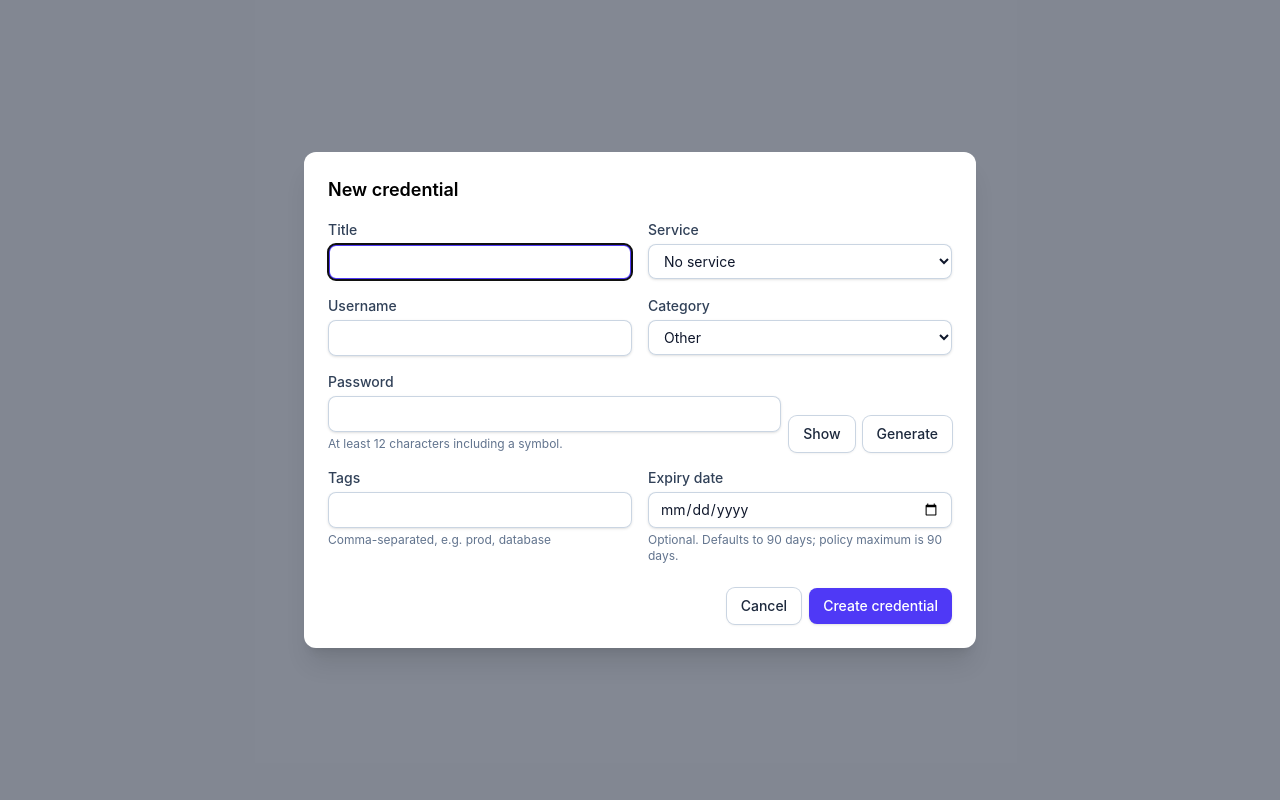
Scenario: CredentialFormModal (create) › a lockdown refusal is explained rather than shown as a generic failure
Type "Prod DB" into the field labelled "Title" at [480, 262], box [328,244,632,280]
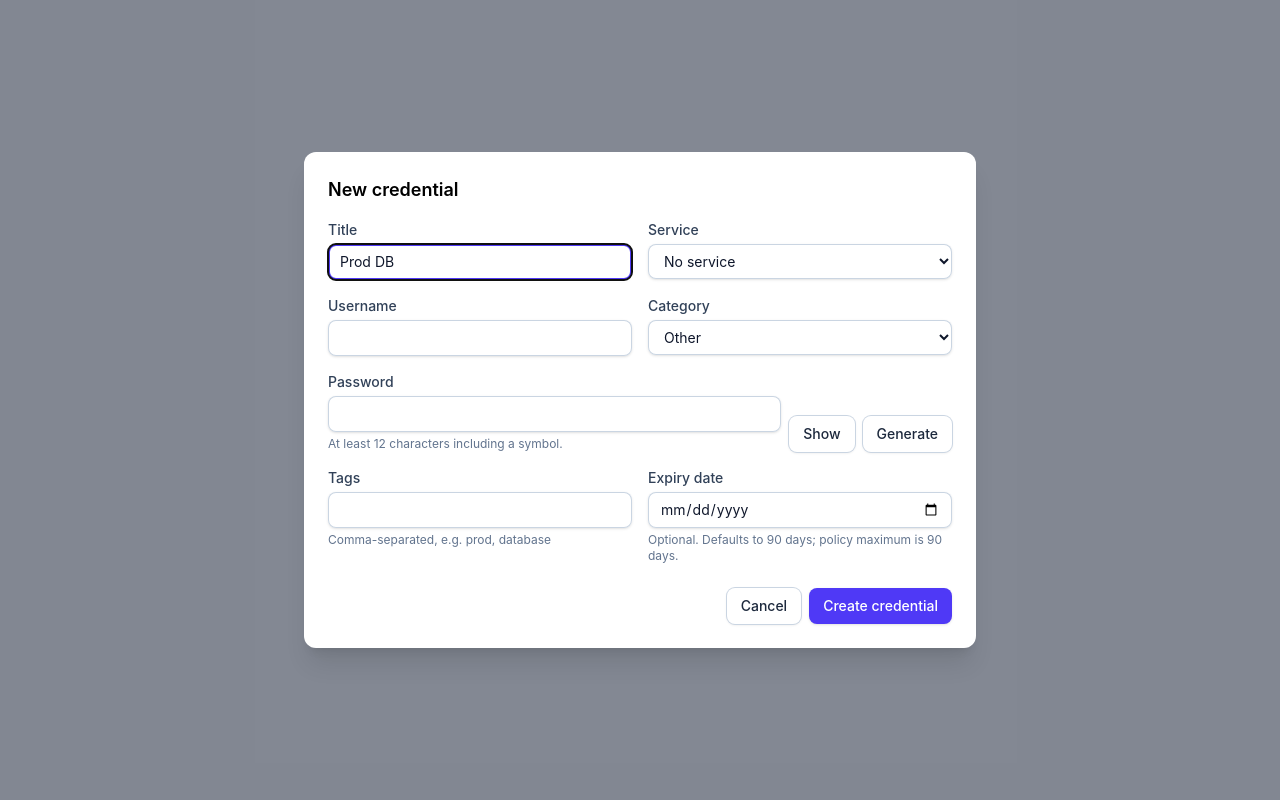
Type "Zx9#kLm2$Qw8!" into the password field labelled "Password" at [555, 414], box [328,396,781,432]
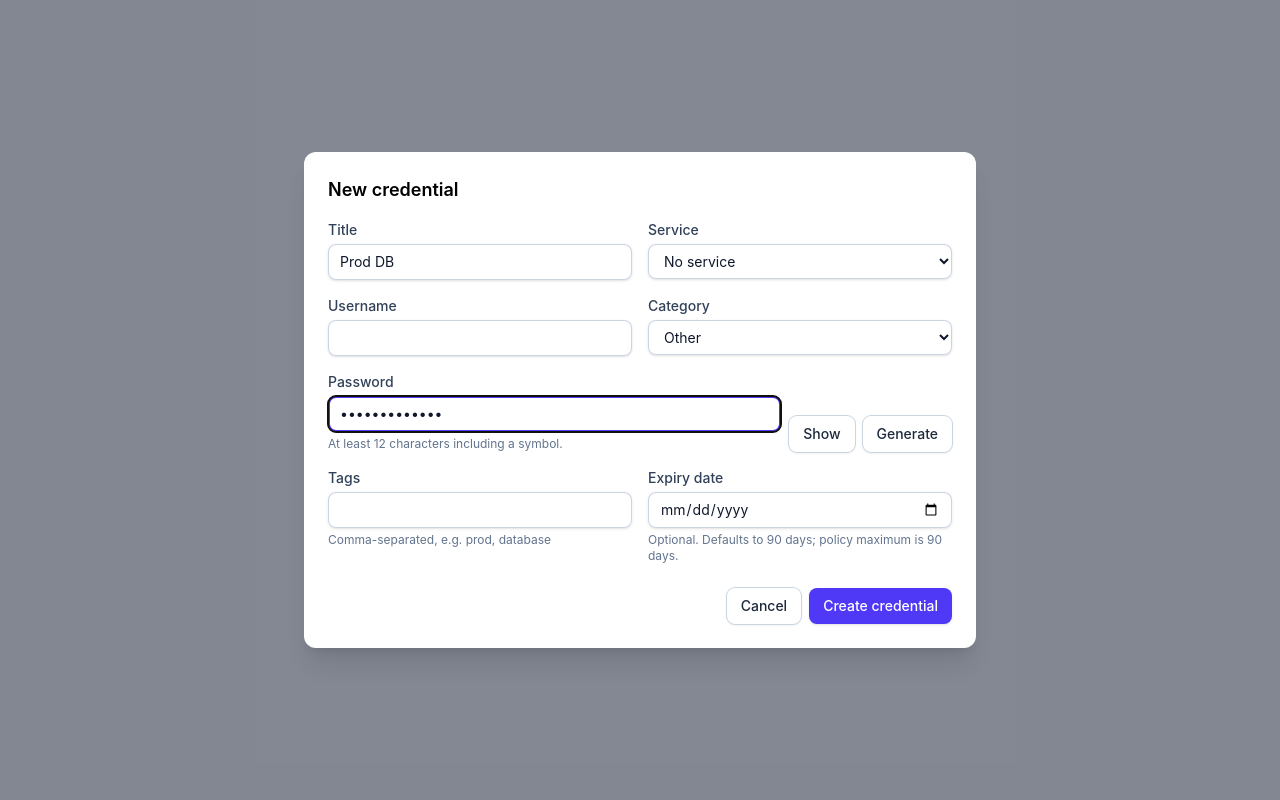
Click the button "Create credential" at [881, 606], box [809,588,952,624]
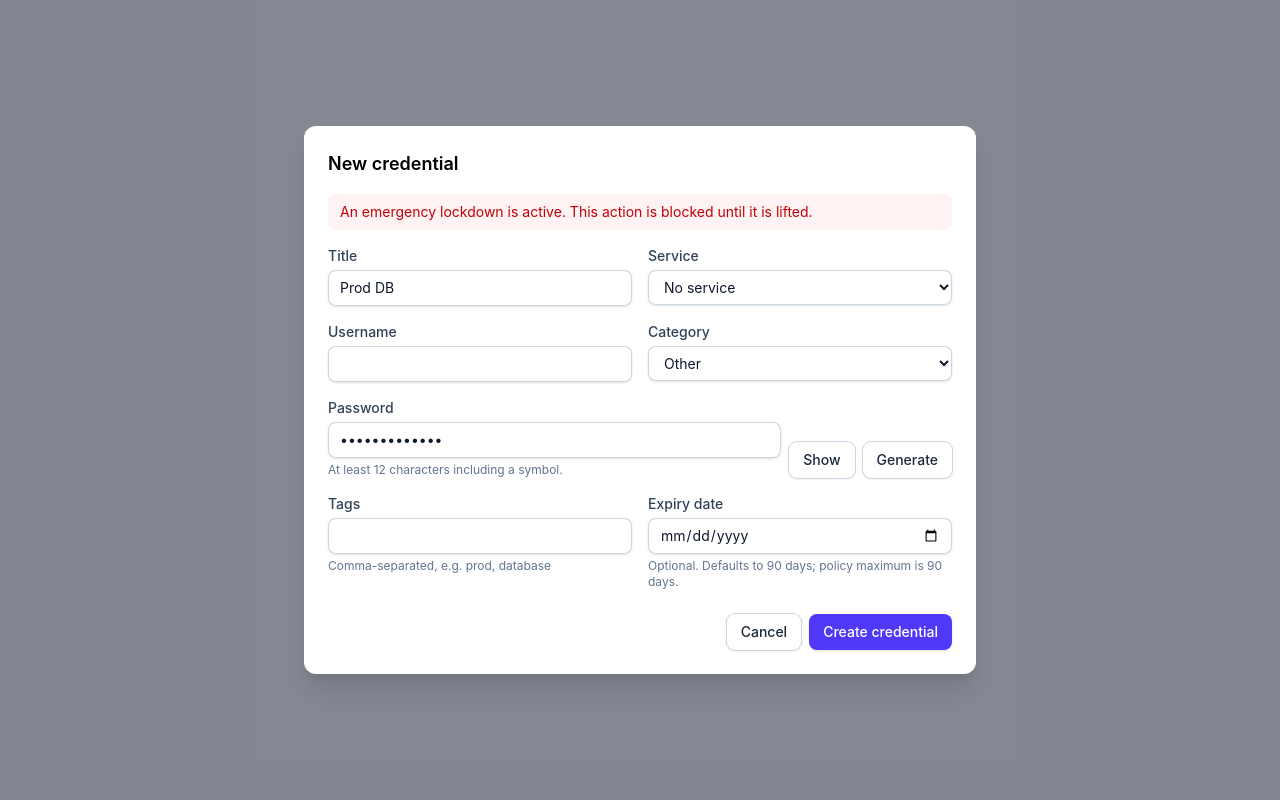
expect the message shows "emergency lockdown": met, box [340,203,813,220]
